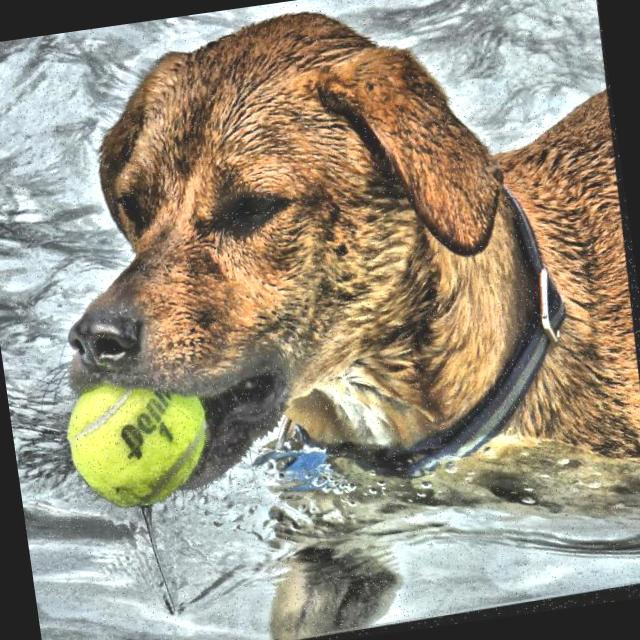Tennis Ball: (56, 365, 230, 524)
